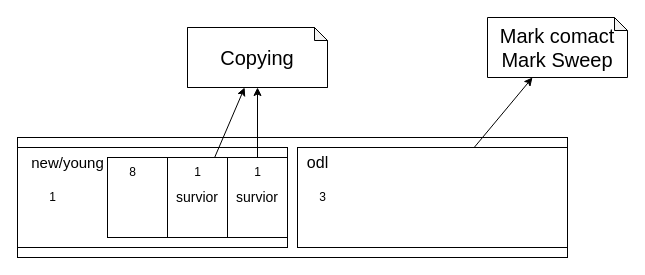
The diagram is 645 pixels wide and 275 high, and some of its shapes have lost their labels. The box of each missing label's shape, as (x1, y1, x2, y2) in pixels:
eden: (106, 156, 168, 238)
tenured(终身): (296, 146, 568, 248)
